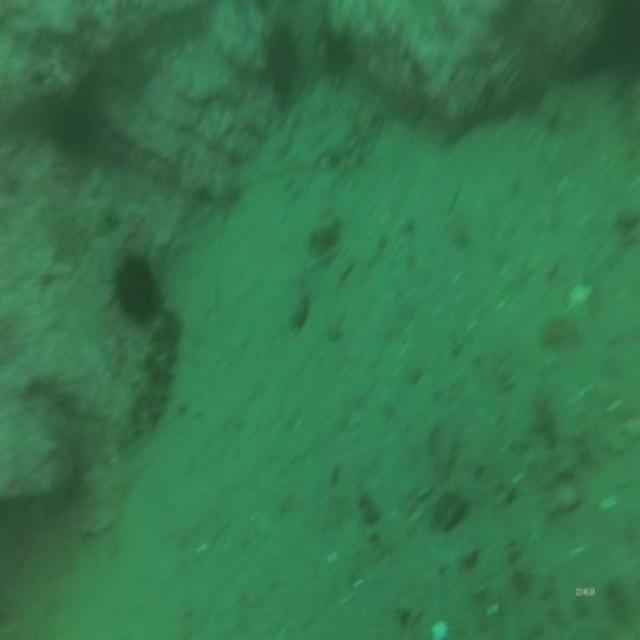echinus: (106, 251, 164, 327), (262, 18, 302, 110)
holothurian: (107, 308, 183, 458)
